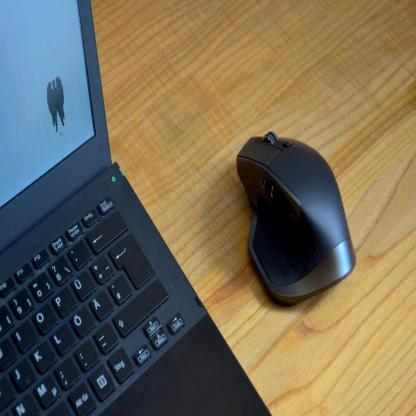board: (0, 0, 273, 416)
